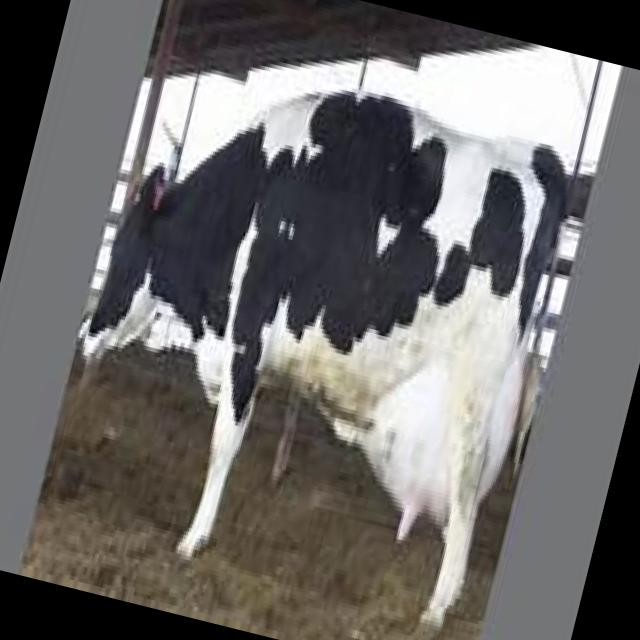cow: (33, 33, 597, 640)
